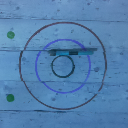Axe Tip: (46, 50, 59, 52)
